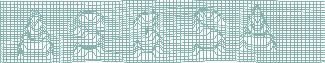3: (131, 9, 166, 61)
A: (15, 10, 56, 61), (237, 4, 279, 53)
S: (188, 8, 227, 58), (71, 9, 107, 58)
